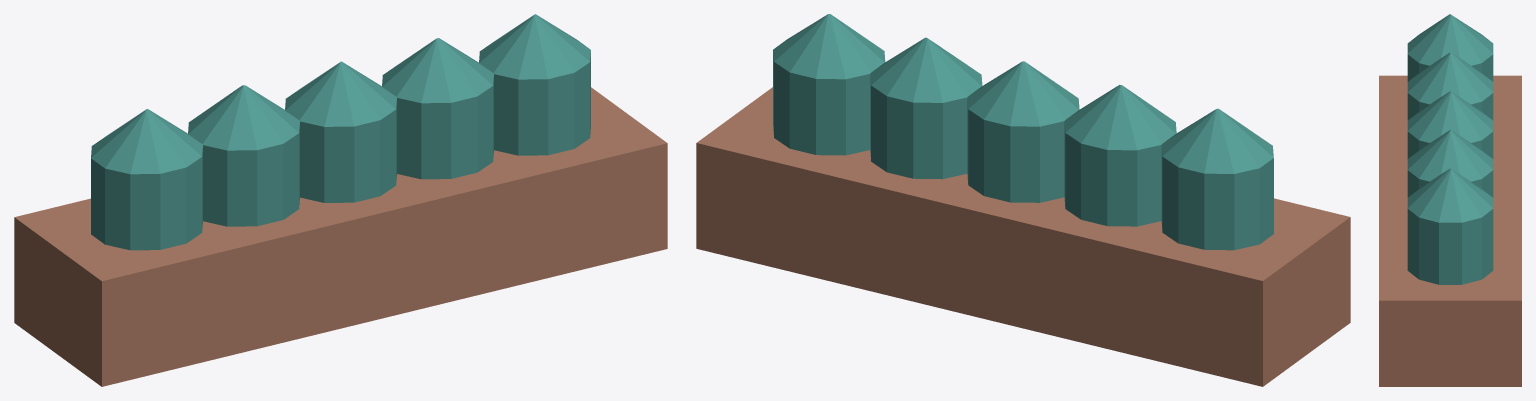
Rendered from Arch_Planter_3m.glb.
3 renders of one model, left to right at view 1: azimuth 30°, elevation 25°; view 2: azimuth 150°, elevation 25°; view 3: azimuth 270°, elevation 25°, orthographic. The views are drawn at different scales.
Visible parts, largest first — view 1: Arch_Planter_3m; view 2: Arch_Planter_3m; view 3: Arch_Planter_3m.
Boxes of the visible parts, x1,y1,x2,y2 form: Arch_Planter_3m: [14, 14, 667, 386]; Arch_Planter_3m: [696, 14, 1350, 386]; Arch_Planter_3m: [1379, 14, 1521, 386].
Size of the model in its own units: 2.8 by 1.06 by 0.75.
